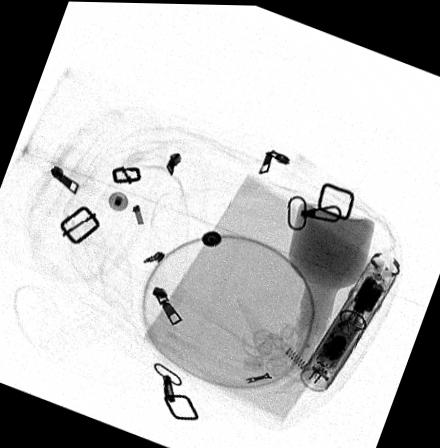Baton: (298, 246, 401, 390)
